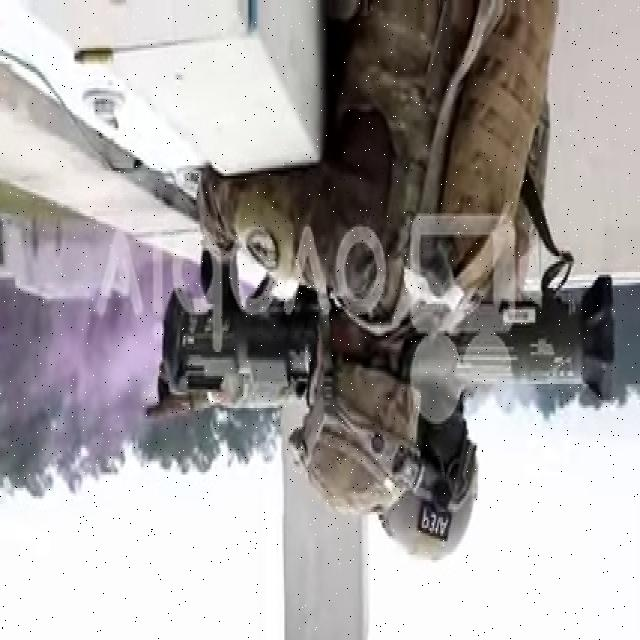bazooka: (158, 260, 628, 419)
